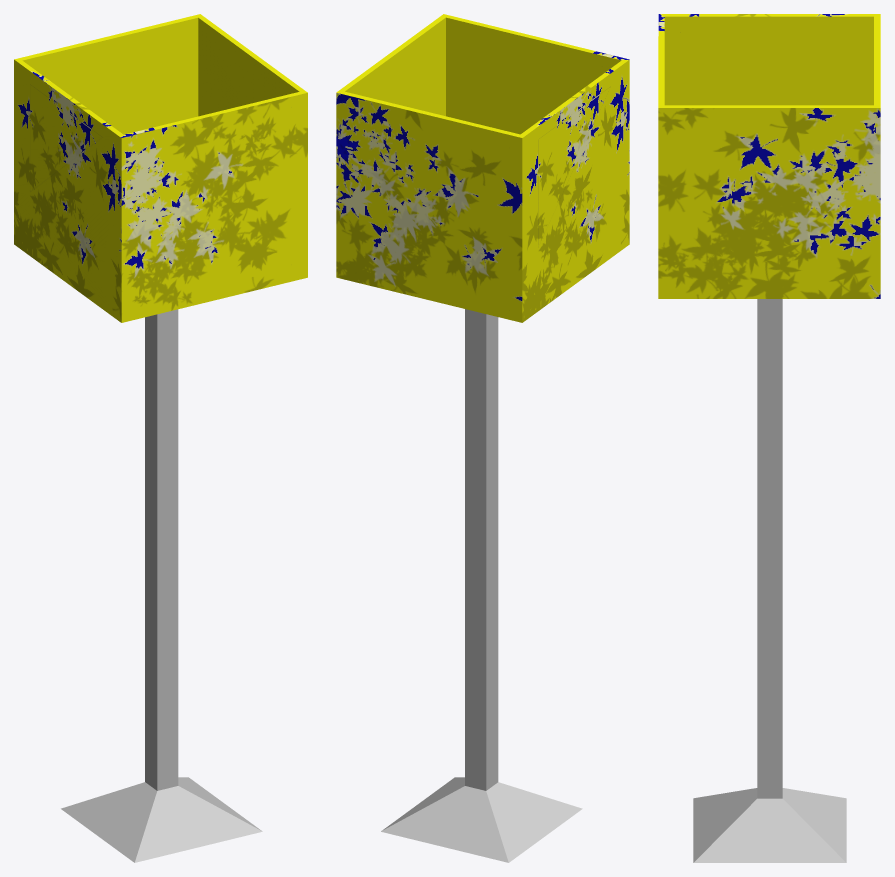
Rendered from Lamp_style3.FBX.
The picture shows the model from 3 angles, left to right: view 1: azimuth 30°, elevation 25°; view 2: azimuth 150°, elevation 25°; view 3: azimuth 270°, elevation 25°; orthographic projection. The views are drawn at different scales.
Parts seen in each view (by area): view 1: Object001, Box001; view 2: Object001, Box001; view 3: Object001, Box001.
Boxes of the visible parts, bbox=[...] form: Object001: bbox=[14, 14, 307, 322]; Box001: bbox=[61, 309, 262, 862]; Object001: bbox=[336, 14, 629, 322]; Box001: bbox=[381, 309, 582, 862]; Object001: bbox=[658, 14, 880, 298]; Box001: bbox=[693, 299, 846, 862].
Bounding box in the file's own units: 35.25 × 135 × 35.24.
